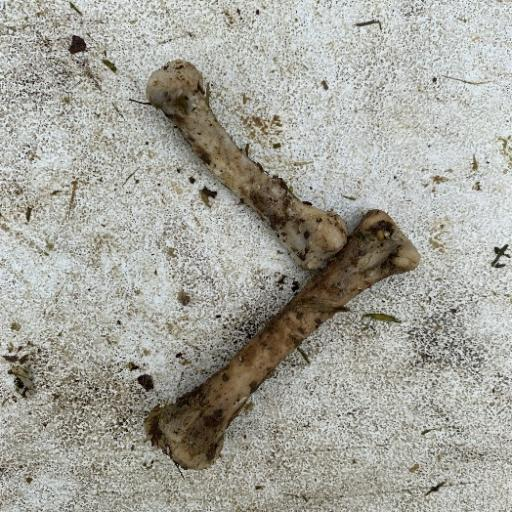Waste: (2, 2, 509, 510), (142, 206, 421, 472), (141, 58, 350, 272)
